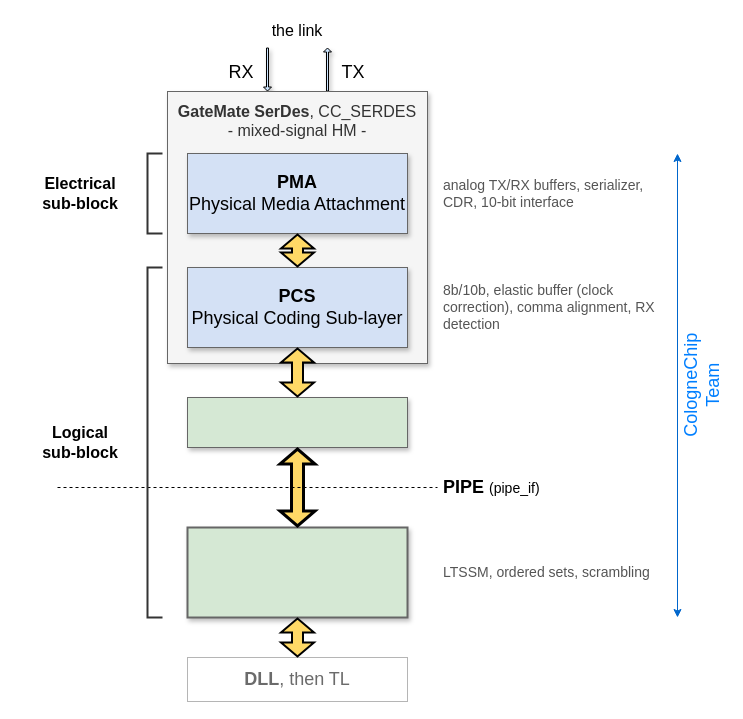
Some shapes in this 743 by 719 pixel diagram are drawn without their labels. Here are the shapes that lost their labels. From the top down, the centre of each, then its label:
pixel 298 423: PHY with PIPE ccfpga_pipe_fsm , thin
pixel 298 573: MAC Media Access Layer - Soft RTL -
